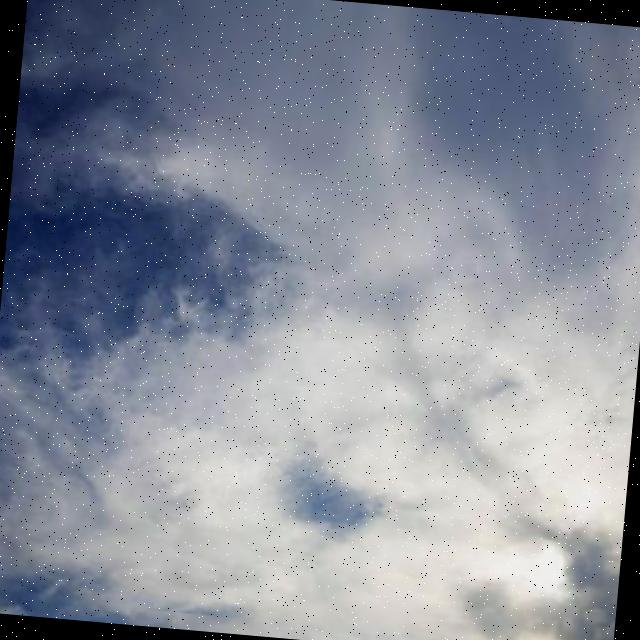Ns: (1, 1, 640, 595)
